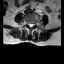CCS_normal: (30, 21, 32, 29)
LFS_normal: (34, 21, 36, 28)
LLS_normal: (32, 21, 34, 28)
RFS_normal: (26, 20, 28, 27)
RLS_normal: (28, 21, 30, 28)
